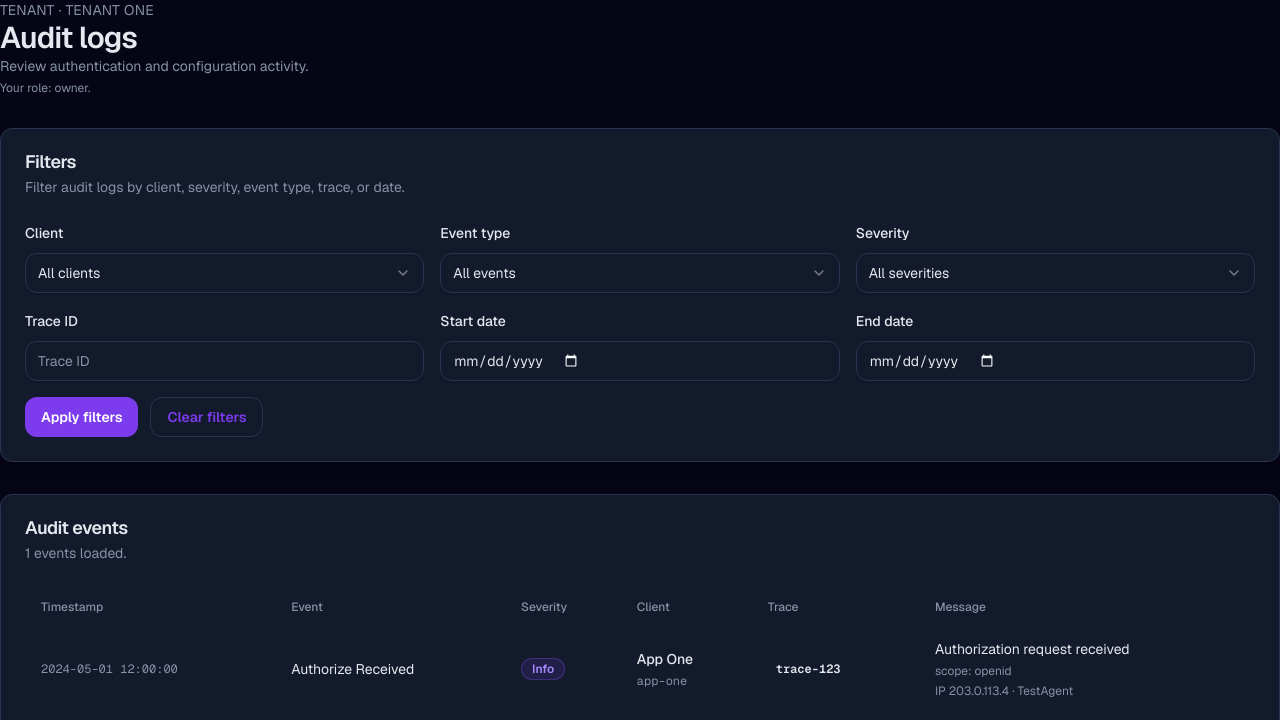
Test: AuditLogsClient › drills into trace IDs
This screenshot has width=1280, height=720.
Click the button with test id "trace-drill-in". click: (808, 669)
box: x1=768 y1=657 x2=848 y2=681
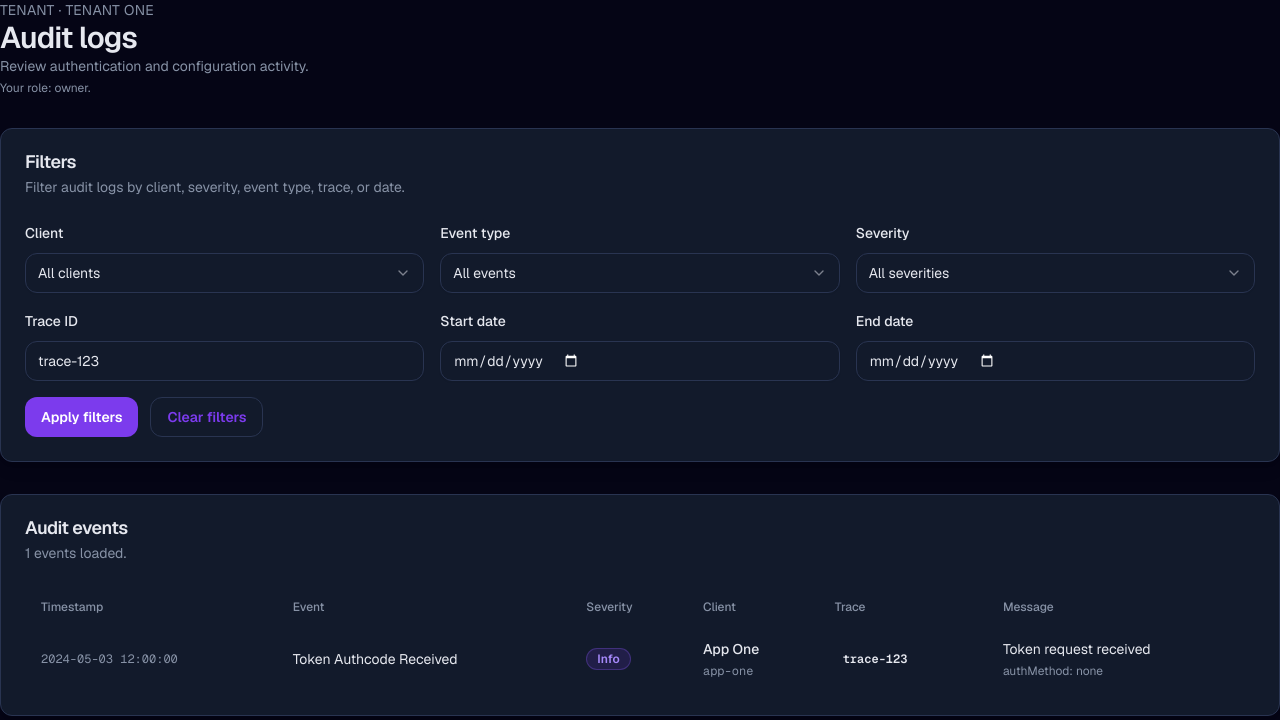
Now the field labelled "Trace ID" holds "trace-123", box x1=25 y1=341 x2=424 y2=381
